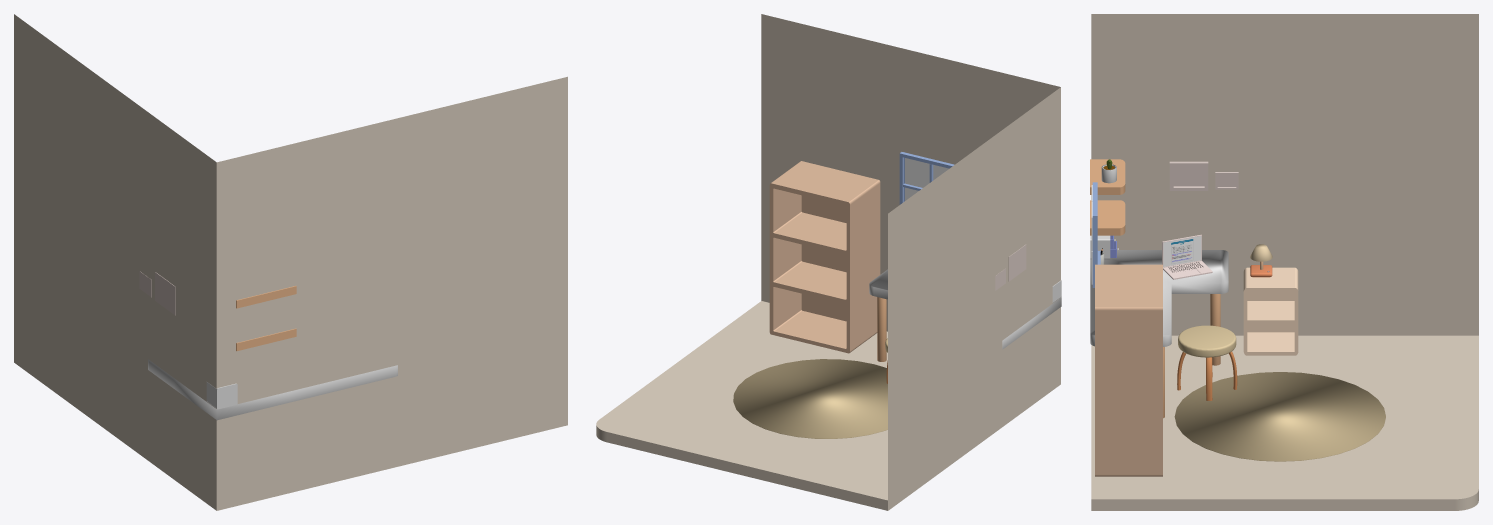
The model's file is secondScene.glb.
The picture shows the model from 3 angles, left to right: view 1: azimuth 30°, elevation 25°; view 2: azimuth 150°, elevation 25°; view 3: azimuth 270°, elevation 25°; orthographic projection. The views are drawn at different scales.
Parts seen in each view (by area): view 1: models; view 2: models; view 3: models.
Boxes of the visible parts, <box> form: models: <box>14,14,567,510</box>; models: <box>596,14,1061,510</box>; models: <box>1090,14,1478,510</box>.
Size of the model in its own units: 15.02 by 14.23 by 15.04.
Materials: 32 (2 with a texture image).
